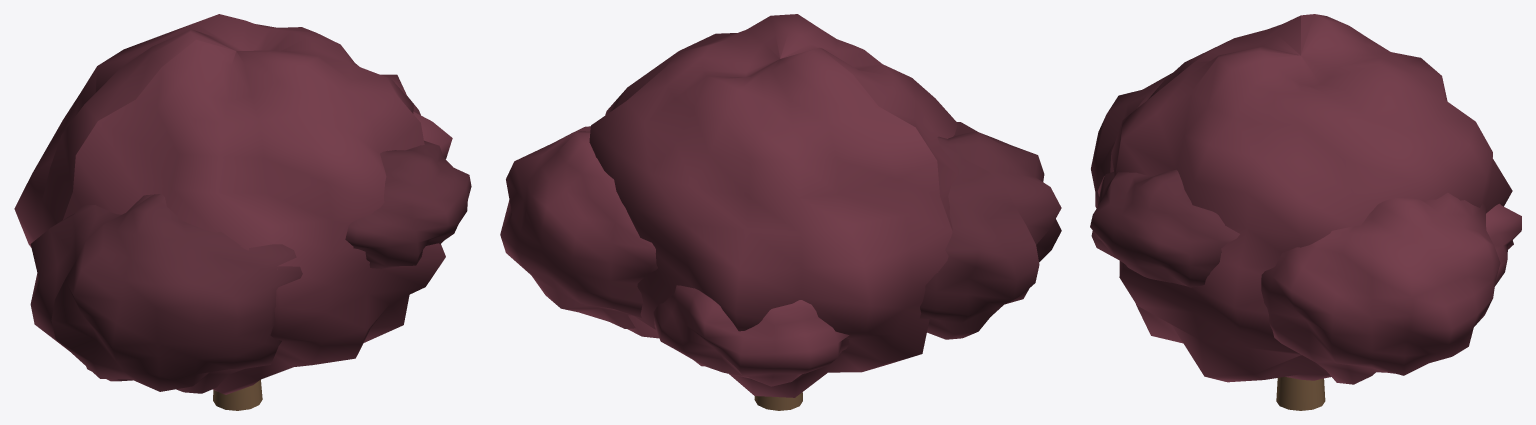
Rendered from diszalma-royalty-fa.glb.
3 renders of one model, left to right at view 1: azimuth 30°, elevation 25°; view 2: azimuth 150°, elevation 25°; view 3: azimuth 270°, elevation 25°, orthographic. The views are drawn at different scales.
Parts seen in each view (by area): view 1: korona-1, korona-2, korona-6, torzs, korona-3; view 2: korona-1, korona-3, korona-2, korona-5, torzs; view 3: korona-1, korona-3, korona-6, korona-2, korona-5, torzs.
Boxes of the visible parts, x1,y1,x2,y2 form: korona-1: (14, 14, 445, 394); korona-2: (30, 194, 302, 393); korona-6: (345, 140, 471, 268); torzs: (213, 379, 262, 410); korona-3: (355, 63, 452, 158); korona-1: (589, 14, 958, 397); korona-3: (500, 126, 657, 328); korona-2: (919, 122, 1061, 339); korona-5: (653, 285, 849, 386); torzs: (754, 392, 802, 410); korona-1: (1097, 14, 1512, 382); korona-3: (1261, 192, 1500, 384); korona-6: (1090, 169, 1239, 287); korona-2: (1091, 73, 1172, 208); korona-5: (1486, 203, 1521, 285); torzs: (1276, 377, 1325, 410).
Bounding box in the file's own units: 8.44 × 6.68 × 7.1.
